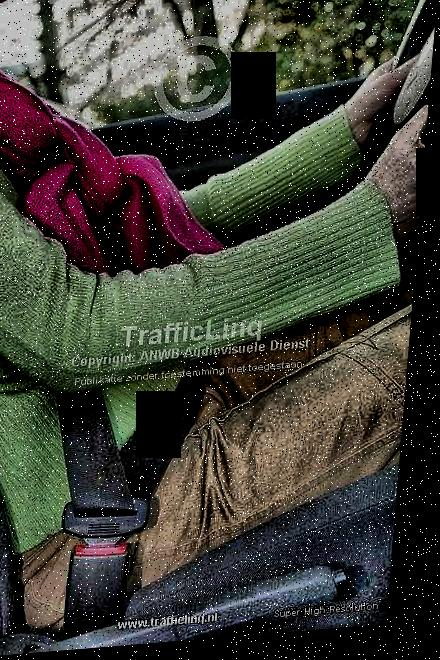seatbelt: (1, 203, 238, 627)
